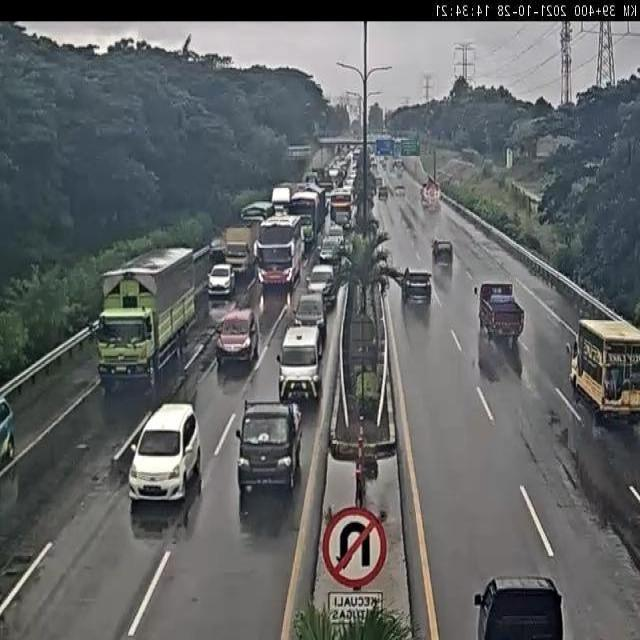Bus: (252, 213, 303, 288)
Car: (125, 398, 209, 518), (231, 397, 309, 509), (212, 299, 263, 380), (271, 329, 324, 404), (394, 259, 434, 310), (290, 293, 325, 338), (205, 257, 237, 300), (424, 238, 460, 273), (307, 264, 337, 300), (393, 179, 407, 202), (377, 183, 391, 206)
Truck: (93, 238, 199, 382), (558, 307, 640, 428), (467, 563, 571, 640), (466, 280, 533, 344), (218, 201, 261, 278), (293, 185, 327, 237)
